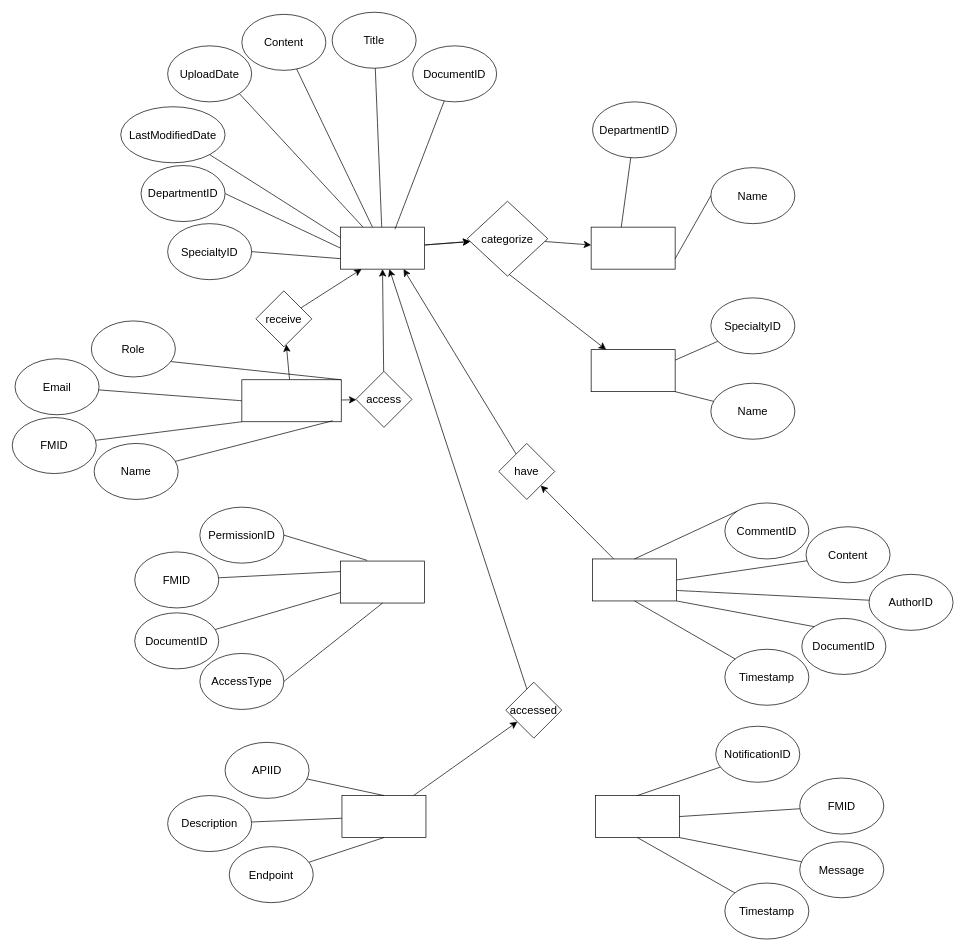
The diagram is 965 pixels wide and 951 high, and some of its shapes have lost their labels. Each missing label, with the box of its shape:
API: (341, 795, 426, 838)
Comment: (592, 558, 677, 601)
Department: (590, 226, 675, 269)
Document: (340, 226, 425, 269)
faculty members: (241, 379, 341, 422)
Notification: (595, 795, 679, 838)
Permission: (340, 560, 425, 603)
Specialty: (590, 349, 675, 392)
